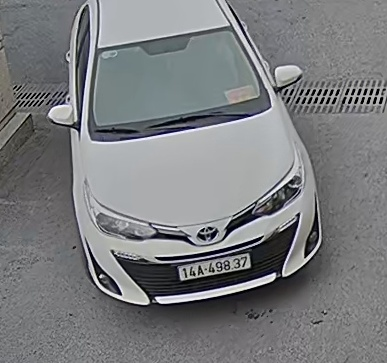vehicle plate: (176, 251, 253, 281)
